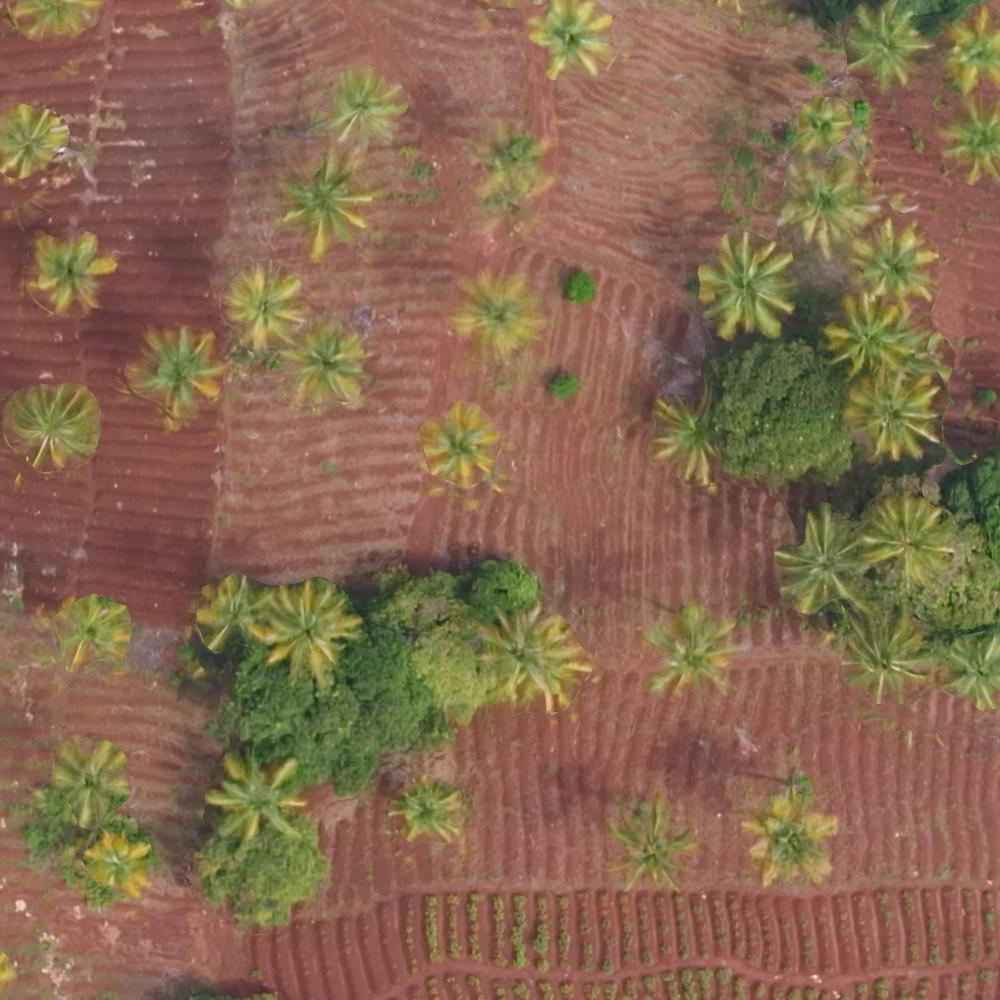Palm: (696, 235, 794, 338), (775, 510, 872, 613), (475, 605, 565, 701), (643, 604, 738, 694), (745, 797, 836, 890), (211, 755, 309, 839), (863, 495, 957, 582), (602, 798, 693, 885), (260, 584, 349, 672), (841, 607, 929, 695), (130, 327, 220, 412), (826, 294, 920, 374), (643, 389, 725, 476), (780, 163, 869, 241), (285, 162, 366, 245), (851, 375, 936, 454), (9, 385, 96, 460), (457, 269, 536, 348), (285, 329, 361, 410), (933, 97, 1000, 187), (28, 233, 104, 312), (528, 1, 609, 74), (54, 738, 125, 821), (857, 222, 930, 298), (227, 268, 301, 340), (421, 407, 497, 477), (844, 7, 921, 75), (329, 68, 402, 136), (59, 597, 129, 663), (943, 8, 1000, 87), (1, 105, 63, 175), (399, 782, 466, 846), (199, 577, 260, 647), (87, 832, 148, 899)
